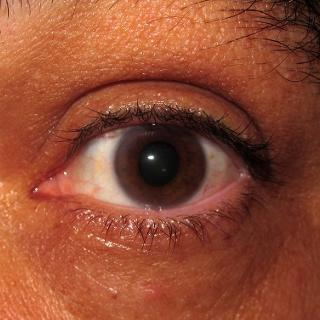iris: (114, 117, 208, 211)
